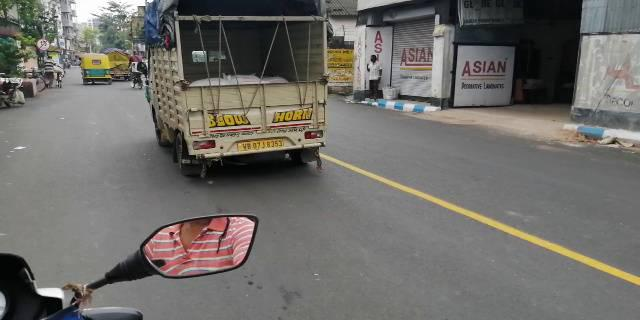Autorickshaw: (80, 51, 113, 88)
Cycle: (123, 50, 145, 90)
Minitruck: (143, 1, 334, 182)
